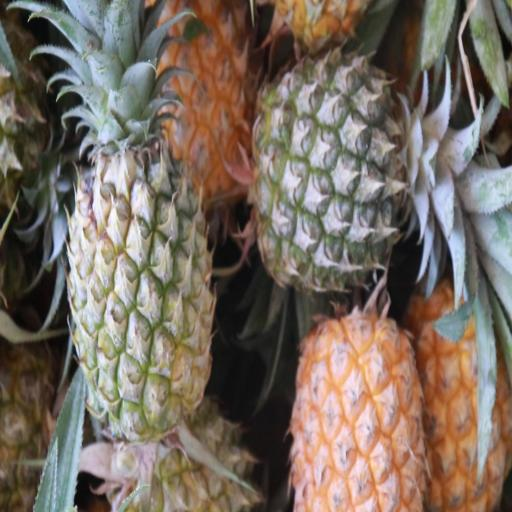Pineapple - v8 v1: (288, 309, 426, 512), (136, 0, 254, 232), (405, 280, 512, 512)
